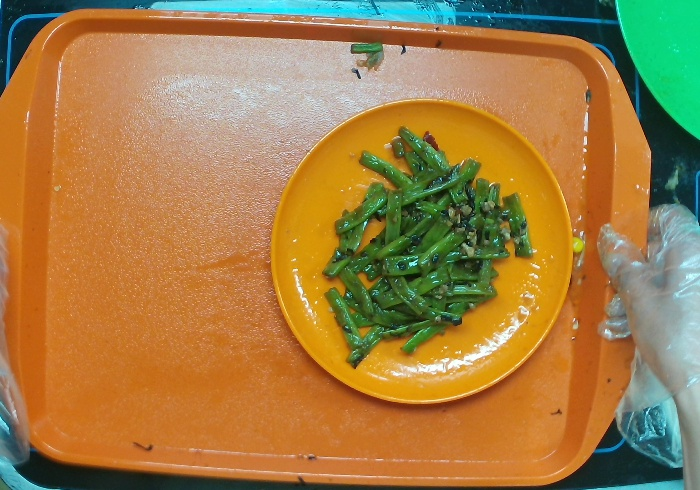HZYJPL-Ju_Huang_Yuan_Pan: (257, 93, 573, 407)
